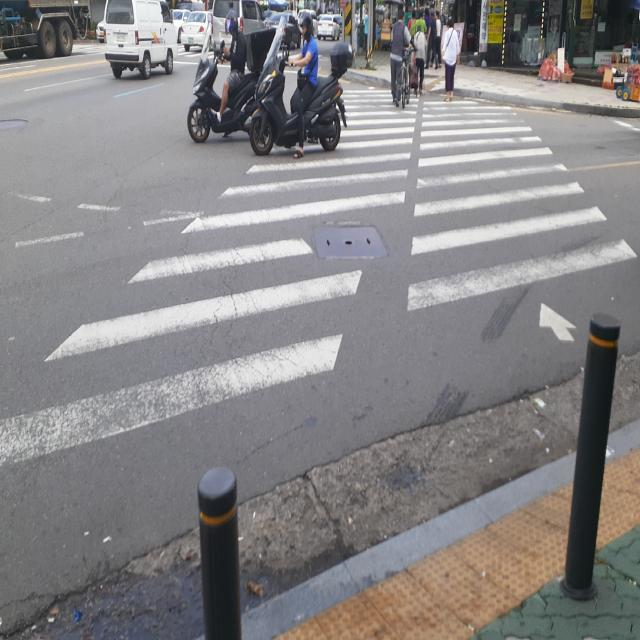횡단보도: (0, 85, 640, 469)
